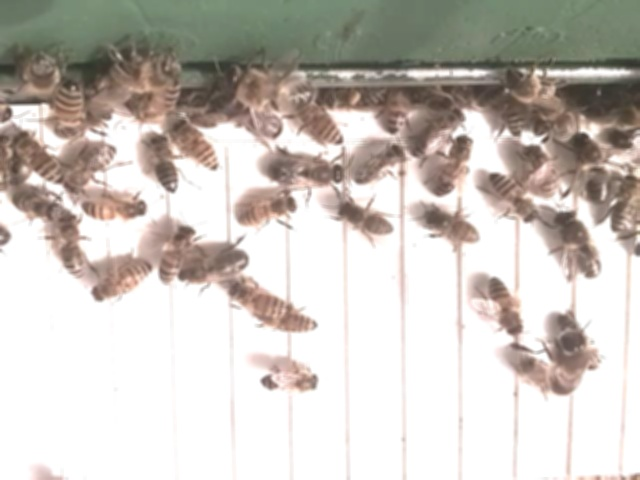Drone: (553, 208, 605, 285), (268, 152, 350, 194), (570, 128, 612, 209), (178, 246, 254, 288)
Worker: (62, 139, 118, 199), (10, 128, 66, 188), (90, 260, 154, 307), (410, 109, 465, 162), (484, 273, 527, 340), (433, 133, 475, 200), (156, 224, 198, 288), (229, 280, 294, 321), (490, 171, 538, 226), (425, 207, 483, 251), (351, 141, 407, 186), (174, 122, 222, 173), (236, 193, 302, 230), (521, 142, 562, 200), (338, 200, 395, 241), (147, 135, 182, 197), (57, 212, 88, 280), (259, 368, 323, 400), (297, 104, 344, 147), (82, 196, 149, 226), (607, 176, 640, 236), (256, 311, 323, 339)
